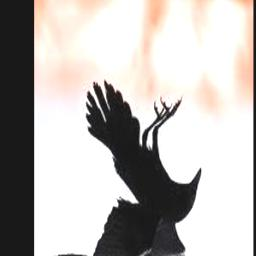Crow: (43, 81, 202, 256)
